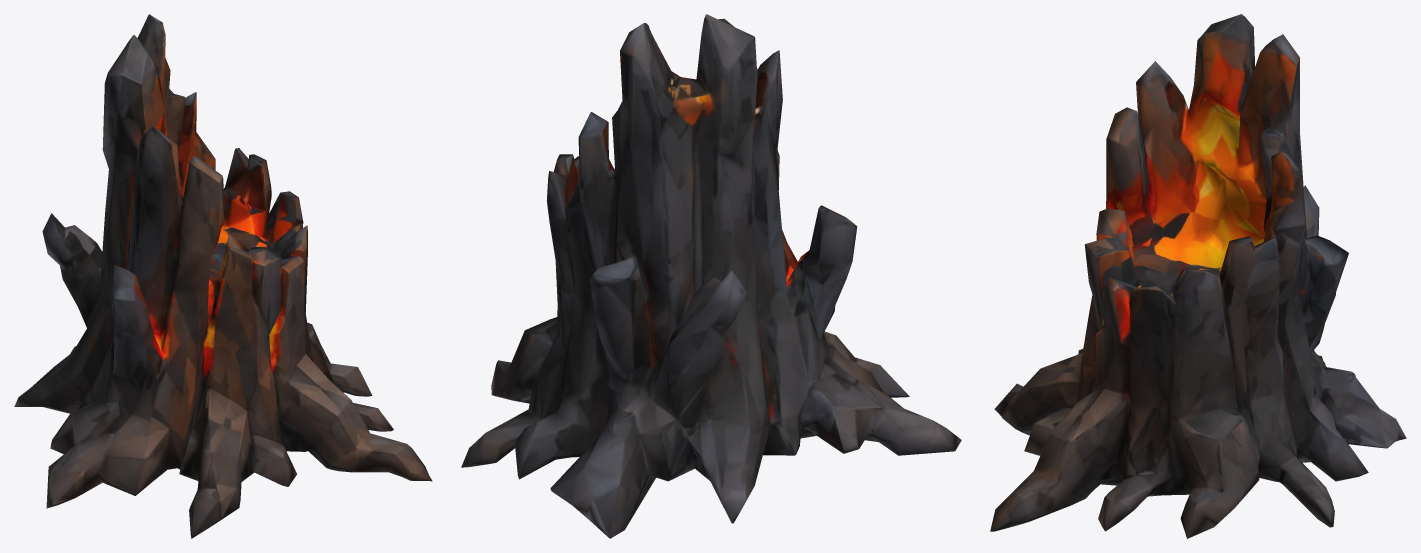
Rendered from tree_volcano_stump.glb.
3 views of the same model, side by side, from view 1: azimuth 30°, elevation 25°; view 2: azimuth 150°, elevation 25°; view 3: azimuth 270°, elevation 25° (orthographic). The views are drawn at different scales.
Parts seen in each view (by area): view 1: BakeLow; view 2: BakeLow; view 3: BakeLow.
Boxes of the visible parts, bbox=[...] form: BakeLow: bbox=[14, 14, 432, 538]; BakeLow: bbox=[461, 14, 961, 538]; BakeLow: bbox=[990, 14, 1406, 538].
Size of the model in its own units: 0.7169 by 0.7584 by 0.6722.
Materials: 1 (1 with a texture image).
